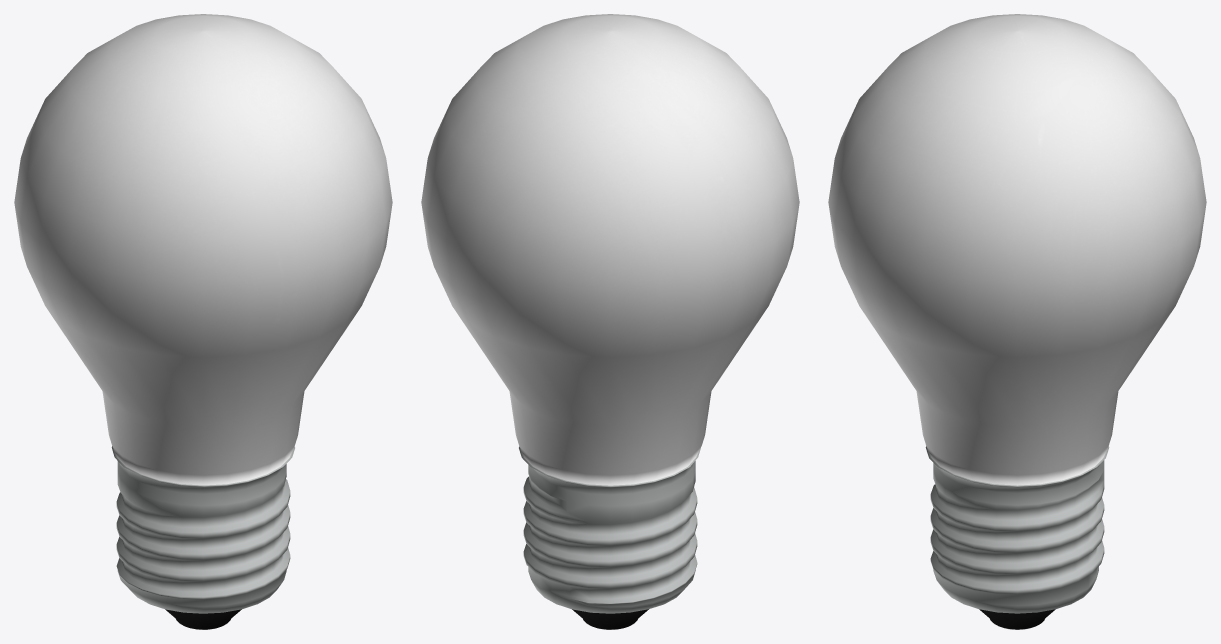
File: cc0_light_bulb.glb
The picture shows the model from 3 angles, left to right: view 1: azimuth 30°, elevation 25°; view 2: azimuth 150°, elevation 25°; view 3: azimuth 270°, elevation 25°; orthographic projection.
Visible parts, largest first — view 1: LightBulb_LightBulb_0; view 2: LightBulb_LightBulb_0; view 3: LightBulb_LightBulb_0.
Boxes of the visible parts, bbox=[...] form: LightBulb_LightBulb_0: bbox=[14, 14, 392, 629]; LightBulb_LightBulb_0: bbox=[421, 14, 799, 629]; LightBulb_LightBulb_0: bbox=[828, 14, 1206, 629].
Size of the model in its own units: 0.0544 by 0.0942 by 0.0544.
Materials: 1 (1 with a texture image).
